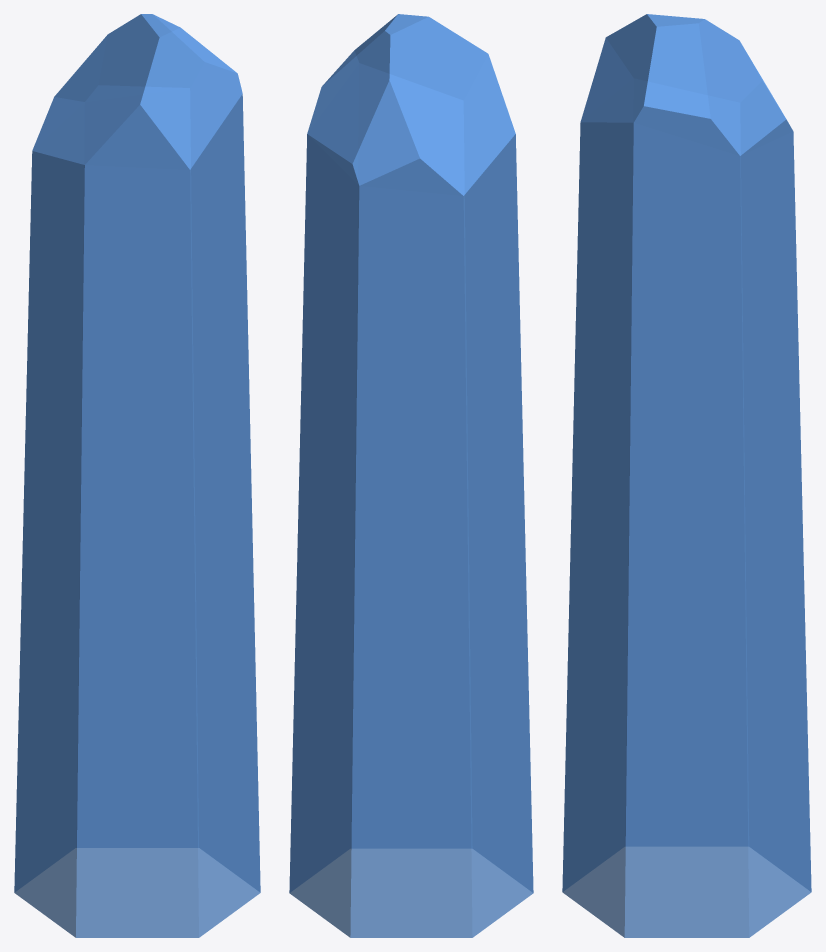
The model's file is Crystal_m_01 2.fbx.
3 views of the same model, side by side, from view 1: azimuth 30°, elevation 25°; view 2: azimuth 150°, elevation 25°; view 3: azimuth 270°, elevation 25° (orthographic). The views are drawn at different scales.
Visible parts, largest first — view 1: Crystal_m_01; view 2: Crystal_m_01; view 3: Crystal_m_01.
Boxes of the visible parts, bbox=[...] form: Crystal_m_01: bbox=[14, 14, 260, 937]; Crystal_m_01: bbox=[289, 14, 533, 937]; Crystal_m_01: bbox=[562, 14, 811, 937].
Size of the model in its own units: 33.96 by 153 by 39.21.
